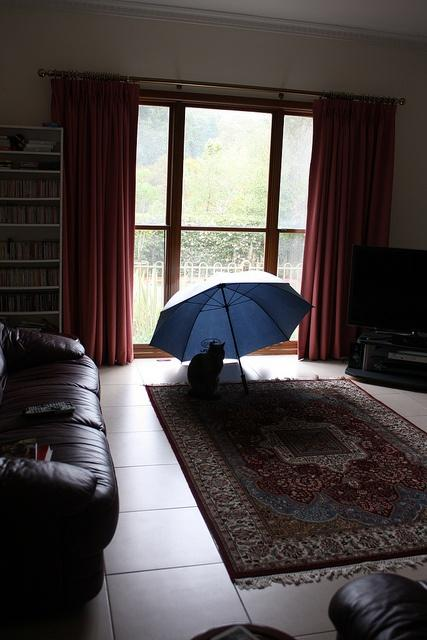Rak: (0, 122, 63, 332)
